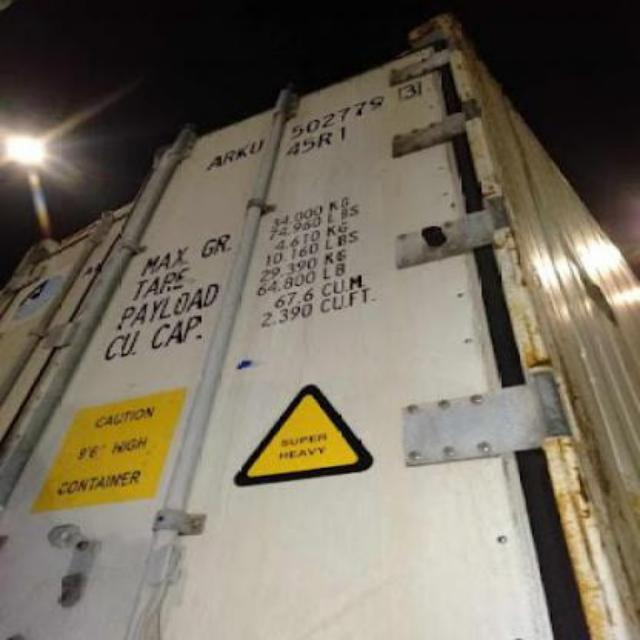0: (308, 117, 324, 133)
2: (320, 113, 336, 131)
3: (400, 83, 418, 101)
5: (288, 123, 304, 139)
7: (350, 100, 368, 118), (336, 108, 349, 122)
9: (370, 98, 386, 112)
A: (205, 156, 221, 168)
K: (238, 144, 250, 160)
R: (222, 150, 238, 162)
U: (249, 138, 265, 156)
